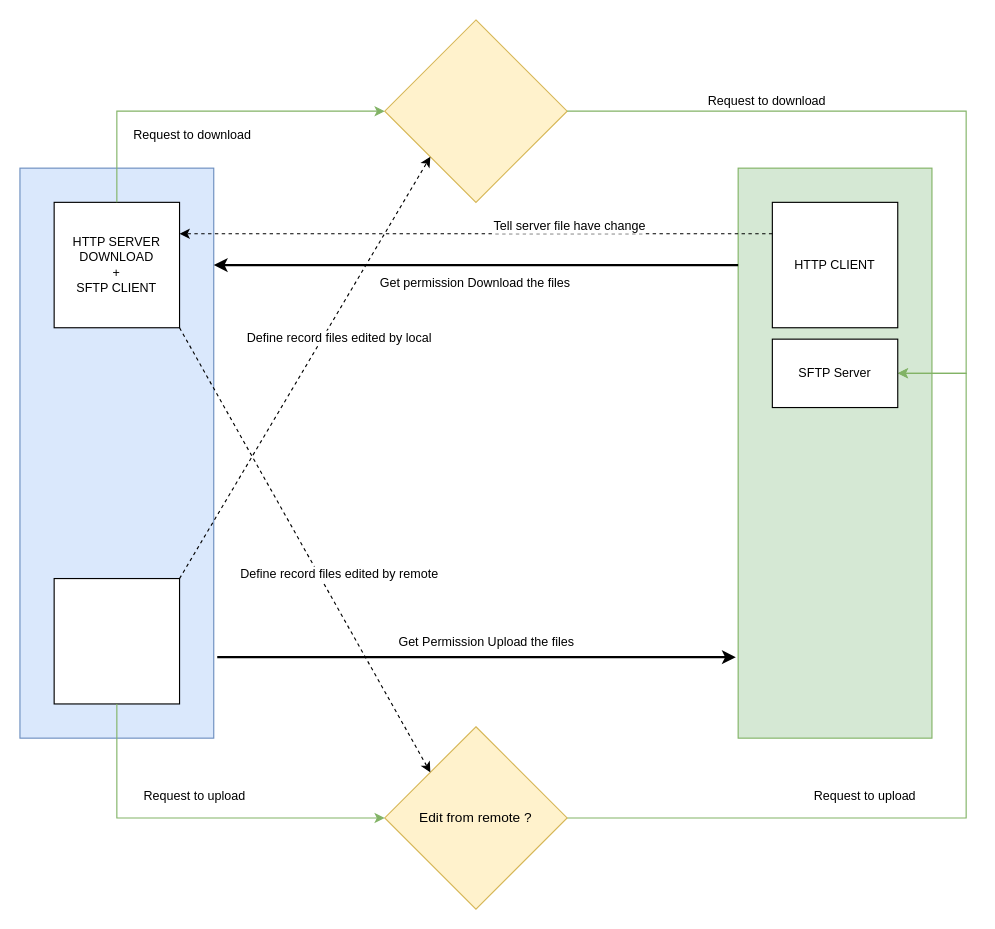
The diagram is 995 pixels wide and 929 high, and some of its shapes have lost their labels. Each missing label, with the centre of its shape:
"Edit from local ?" belongs at (x=475, y=110).
"UPLOAD + SFTP CLIENT" belongs at (x=116, y=640).
